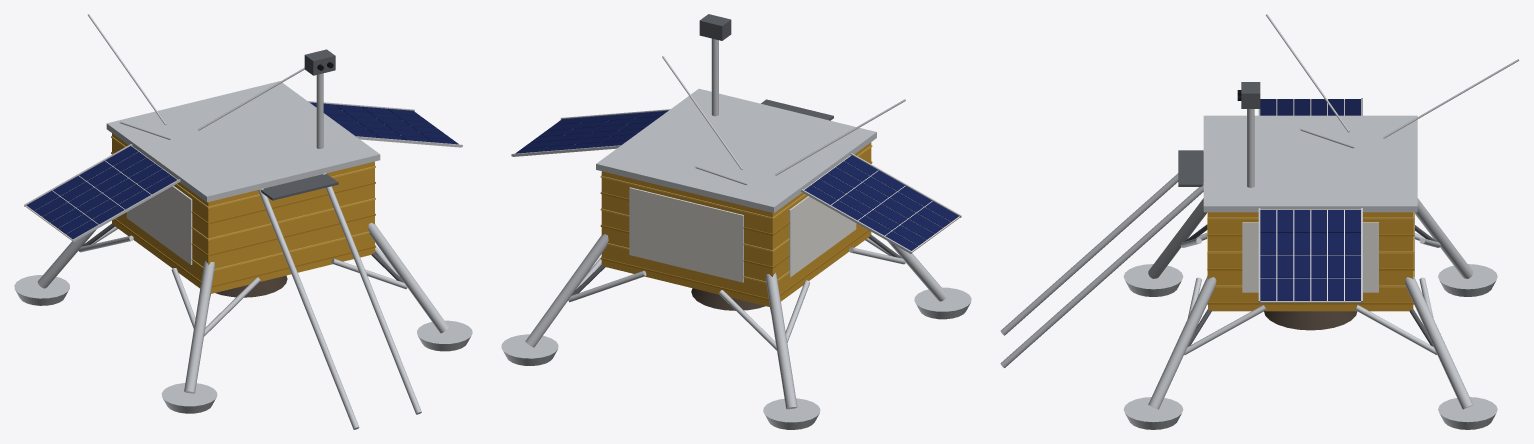
Rendered from change4_lander.glb.
3 renders of one model, left to right at view 1: azimuth 30°, elevation 25°; view 2: azimuth 150°, elevation 25°; view 3: azimuth 270°, elevation 25°, orthographic. The views are drawn at different scales.
Parts seen in each view (by area): view 1: TopDeck, Body, Wing_L, Wing_R, Radiator_1, Ramp_L, Ramp_R, Leg_Primary_1, Leg_Primary_0, Leg_Pad_1, Leg_Pad_0, Leg_Pad_2 (+12 smaller); view 2: TopDeck, Body, Radiator_2, Wing_L, Wing_R, Radiator_1, Leg_Primary_2, Leg_Primary_3, Leg_Pad_2, Leg_Pad_3, Leg_Pad_1, Leg_Primary_1 (+9 smaller); view 3: TopDeck, Wing_R, Body, Radiator_0, Ramp_R, Leg_Primary_3, Leg_Primary_0, Wing_L, Ramp_L, Leg_Pad_3, Leg_Pad_0, EngineBell (+11 smaller).
Boxes of the visible parts, x1,y1,x2,y2 form: TopDeck: [106, 81, 380, 202]; Body: [112, 133, 374, 293]; Wing_L: [24, 144, 180, 242]; Wing_R: [308, 101, 462, 147]; Radiator_1: [126, 185, 192, 264]; Ramp_L: [258, 188, 359, 429]; Ramp_R: [323, 173, 421, 414]; Leg_Primary_1: [184, 260, 214, 393]; Leg_Primary_0: [368, 223, 449, 333]; Leg_Pad_1: [161, 383, 217, 413]; Leg_Pad_0: [417, 320, 472, 351]; Leg_Pad_2: [14, 275, 69, 305]; TopDeck: [596, 88, 876, 212]; Body: [601, 142, 871, 306]; Radiator_2: [629, 187, 743, 282]; Wing_L: [801, 153, 961, 253]; Wing_R: [511, 109, 670, 156]; Radiator_1: [789, 196, 856, 277]; Leg_Primary_2: [765, 273, 797, 409]; Leg_Primary_3: [525, 234, 608, 347]; Leg_Pad_2: [763, 398, 820, 429]; Leg_Pad_3: [501, 334, 558, 365]; Leg_Pad_1: [914, 287, 971, 319]; Leg_Primary_1: [887, 241, 947, 301]; TopDeck: [1203, 115, 1417, 212]; Wing_R: [1258, 208, 1362, 302]; Body: [1208, 212, 1413, 311]; Radiator_0: [1242, 222, 1378, 292]; Ramp_R: [1000, 183, 1203, 367]; Leg_Primary_3: [1405, 275, 1472, 409]; Leg_Primary_0: [1148, 275, 1216, 409]; Wing_L: [1258, 98, 1362, 115]; Ramp_L: [1000, 151, 1203, 335]; Leg_Pad_3: [1438, 397, 1497, 429]; Leg_Pad_0: [1123, 397, 1183, 429]; EngineBell: [1264, 311, 1357, 330].
Bounding box in the file's own units: 5.62 × 3.75 × 6.07.
